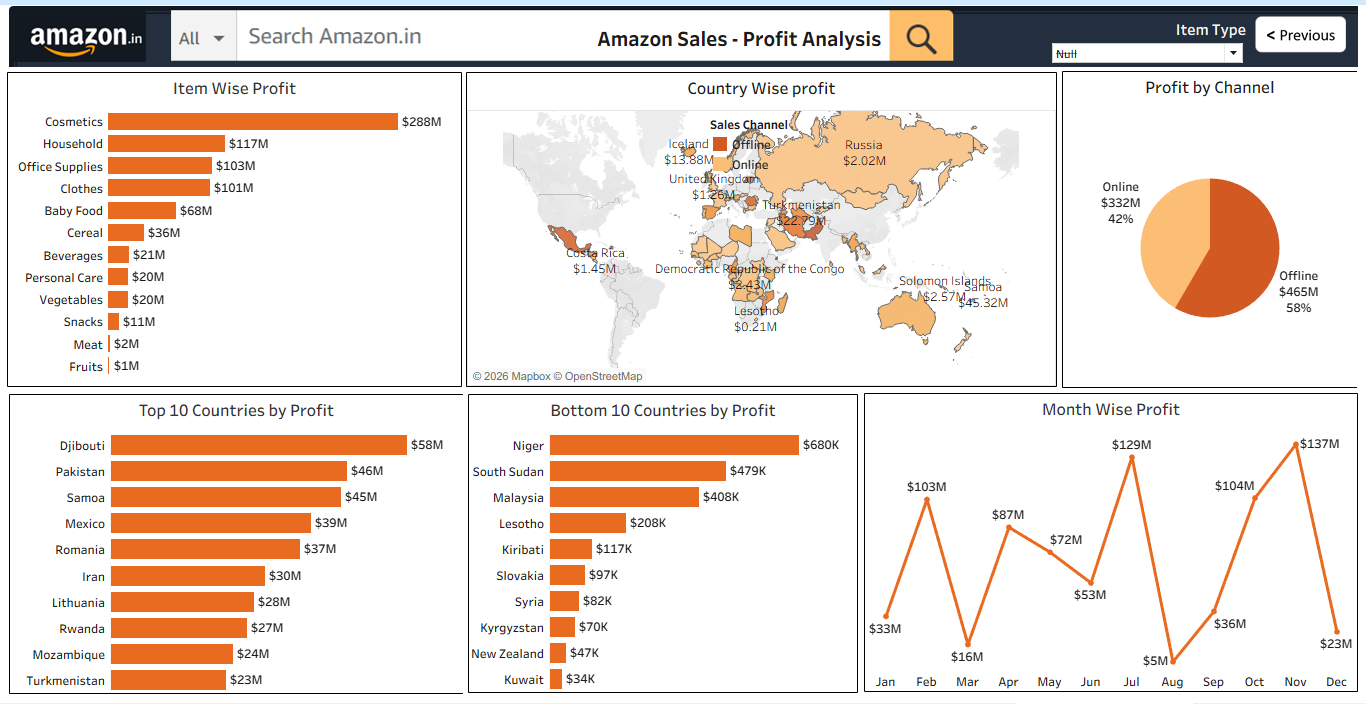

The page's visual inventory and layout, read from the dashboard file:
{"tool":"tableau","page":{"name":"Profit Analysis Dashboard","canvas":[1000,1000],"units":"permille","ordinal":0},"visuals":[{"type":"image","param":"Image/Picture1.png","box":[6.5,1.8,988,87.5]},{"type":"image","param":"Image/Picture5.png","box":[124.9,5.4,691,75]},{"type":"image","param":"Image/Picture3.png","box":[9.2,7.1,114.7,75]},{"type":"dashboard-object","box":[914.6,16.1,76.4,57.1]},{"type":"text","box":[332.8,17.9,270.4,53.6]},{"type":"filter","title":"Item Wise Profit","param":"[federated.0ruocg91nmx95e15qtd3w1a694xo].[none:Item Type:nk]","box":[768.2,19.6,144.6,66.1]},{"type":"worksheet","title":"profit by Channel","mark":"Pie","box":[777.3,94.6,216.4,453.6]},{"type":"worksheet","title":"Item Wise Profit","mark":"Automatic","rows":["Item Type"],"cols":["Calculation_961799997317517312"],"box":[5.5,96.4,332.7,451.8]},{"type":"worksheet","title":"country wise profit","mark":"Automatic","box":[340.9,96.4,432.7,451.8]},{"type":"legend","title":"profit by Channel","param":"[federated.0ruocg91nmx95e15qtd3w1a694xo].[none:Sales Channel:nk]","box":[520,158.9,127.3,103.6]},{"type":"worksheet","title":"month wise profit","mark":"Line","rows":["Calculation_961799997317517312"],"cols":["Calculation_961799997321728005"],"box":[632.7,555.4,361.8,428.6]},{"type":"worksheet","title":"profit by country","mark":"Automatic","rows":["Country"],"cols":["Calculation_961799997317517312"],"box":[6.4,557.1,332.7,430.4]},{"type":"worksheet","title":"Bottom 10 Countries","mark":"Automatic","rows":["Country"],"cols":["Calculation_961799997317517312"],"box":[342.7,557.1,285.4,428.6]}]}

Visuals, with their boxes on the dashboard's canvas, which has no fixed pixel size, in thousandths of its width and height (x1, y1, x2, y2). These are canvas units, not pixel positions in the 1366x704 screenshot, which may show the page scaled, cropped or inside an application window:
image: crop(6, 2, 994, 89)
image: crop(125, 5, 816, 80)
image: crop(9, 7, 124, 82)
dashboard-object: crop(915, 16, 991, 73)
text: crop(333, 18, 603, 72)
"Item Wise Profit" filter: crop(768, 20, 913, 86)
"profit by Channel" worksheet (Pie marks): crop(777, 95, 994, 548)
"Item Wise Profit" worksheet: crop(6, 96, 338, 548)
"country wise profit" worksheet: crop(341, 96, 774, 548)
"profit by Channel" legend: crop(520, 159, 647, 262)
"month wise profit" worksheet (Line marks): crop(633, 555, 994, 984)
"profit by country" worksheet: crop(6, 557, 339, 988)
"Bottom 10 Countries" worksheet: crop(343, 557, 628, 986)
